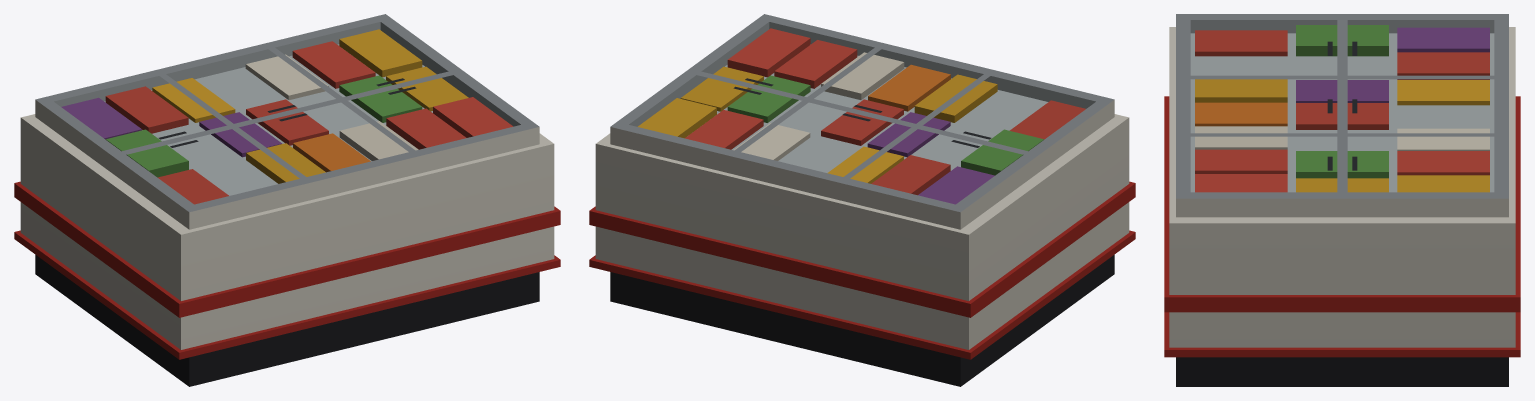
The model's file is appliance.freezer_chest.red_rail.glb.
3 renders of one model, left to right at view 1: azimuth 30°, elevation 25°; view 2: azimuth 150°, elevation 25°; view 3: azimuth 270°, elevation 25°, orthographic. The views are drawn at different scales.
Visible parts, largest first — view 1: appliance_freezer_chest_red_rail; view 2: appliance_freezer_chest_red_rail; view 3: appliance_freezer_chest_red_rail.
Part boxes in pixels (x1,y1,x2,y2): appliance_freezer_chest_red_rail: [14, 14, 560, 386]; appliance_freezer_chest_red_rail: [589, 14, 1135, 386]; appliance_freezer_chest_red_rail: [1164, 14, 1520, 386].
Size of what is drawn, in the model's own units: 2.29 by 1 by 1.71.
